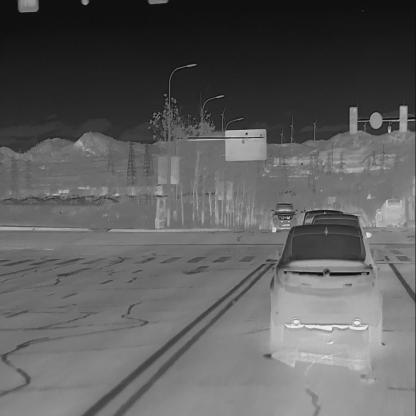bus: (381, 198, 404, 228), (373, 205, 386, 232)
car: (266, 222, 386, 367), (306, 211, 366, 236), (270, 200, 297, 233)
